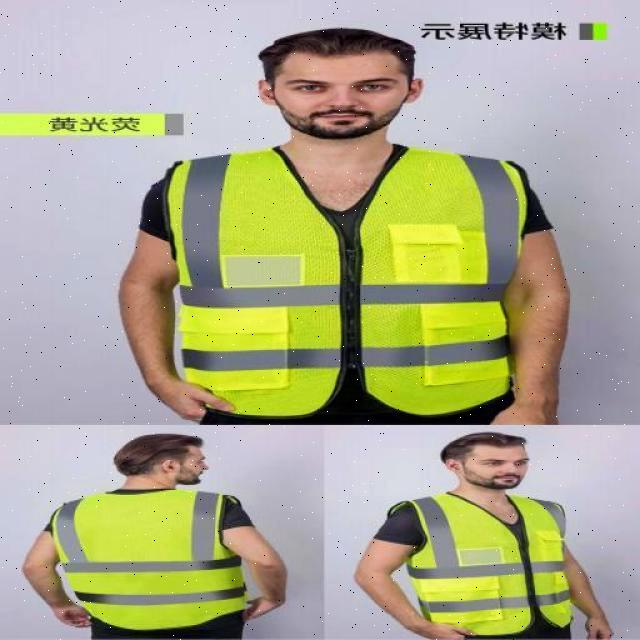Vest: (174, 147, 520, 409), (60, 487, 238, 629), (405, 492, 567, 636)
